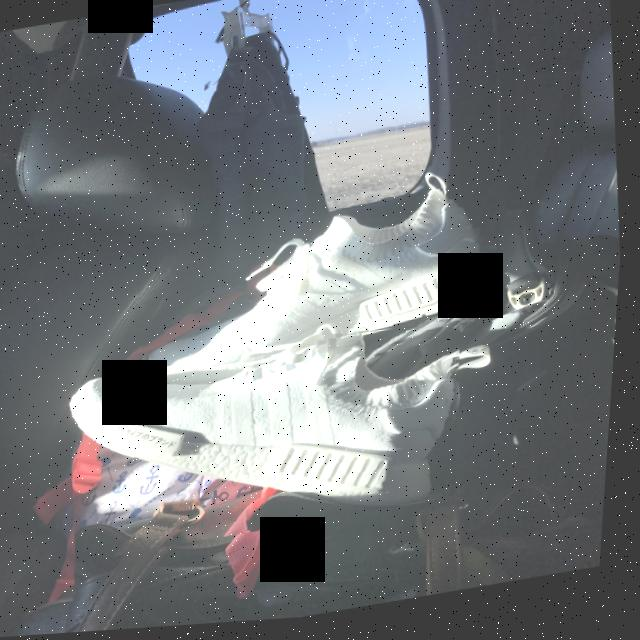shoe: (64, 322, 485, 565), (128, 188, 496, 387)
